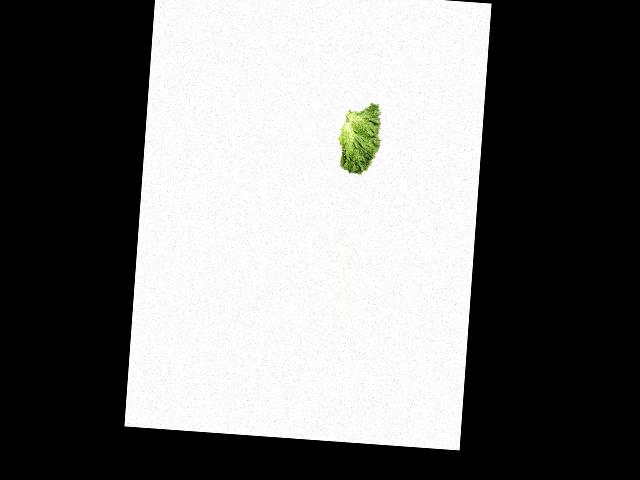lettuce: (333, 101, 388, 176)
